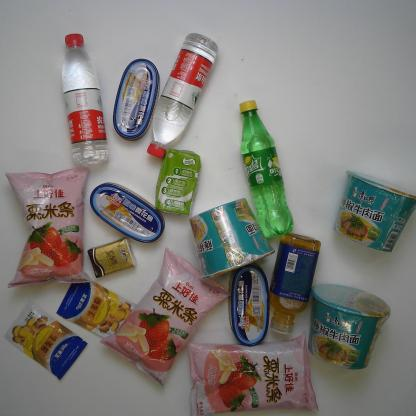Canned Food: (88, 180, 167, 245), (110, 55, 164, 144), (225, 259, 272, 351)
Drink: (144, 29, 222, 162), (235, 96, 296, 242), (57, 29, 112, 170), (266, 230, 325, 337)
Instant Noodles: (302, 281, 394, 373), (185, 194, 277, 282), (329, 164, 416, 257)
Milk: (152, 146, 203, 218)
Puffed Food: (97, 244, 237, 392), (180, 328, 322, 415), (2, 164, 99, 290)
Seasoner: (0, 299, 89, 381), (54, 278, 140, 343)
Tissue: (85, 234, 139, 280)
